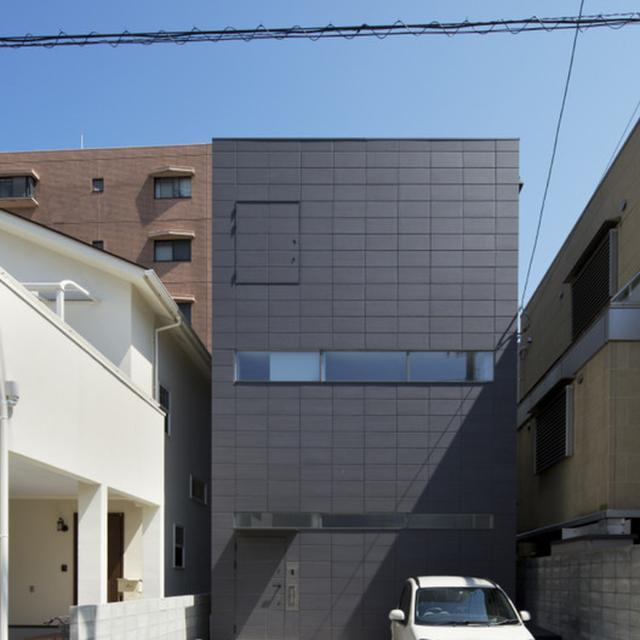building: (212, 133, 518, 637), (0, 202, 210, 628), (520, 118, 640, 640), (0, 144, 217, 357)
